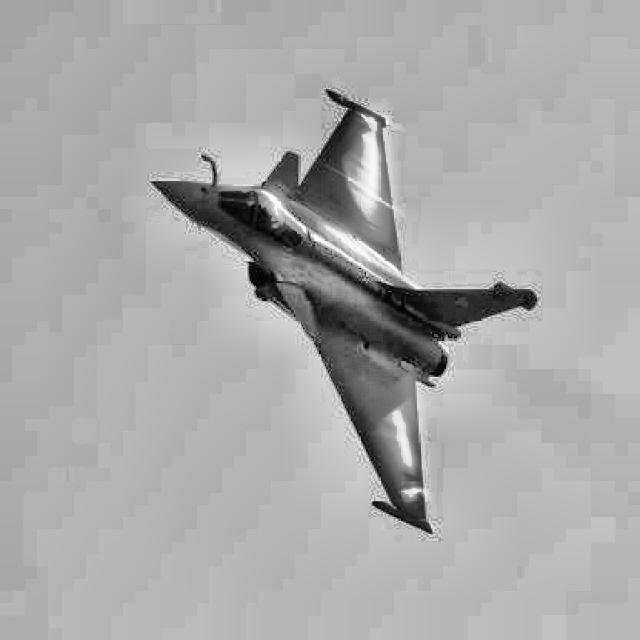Rafale: (150, 88, 538, 534)
